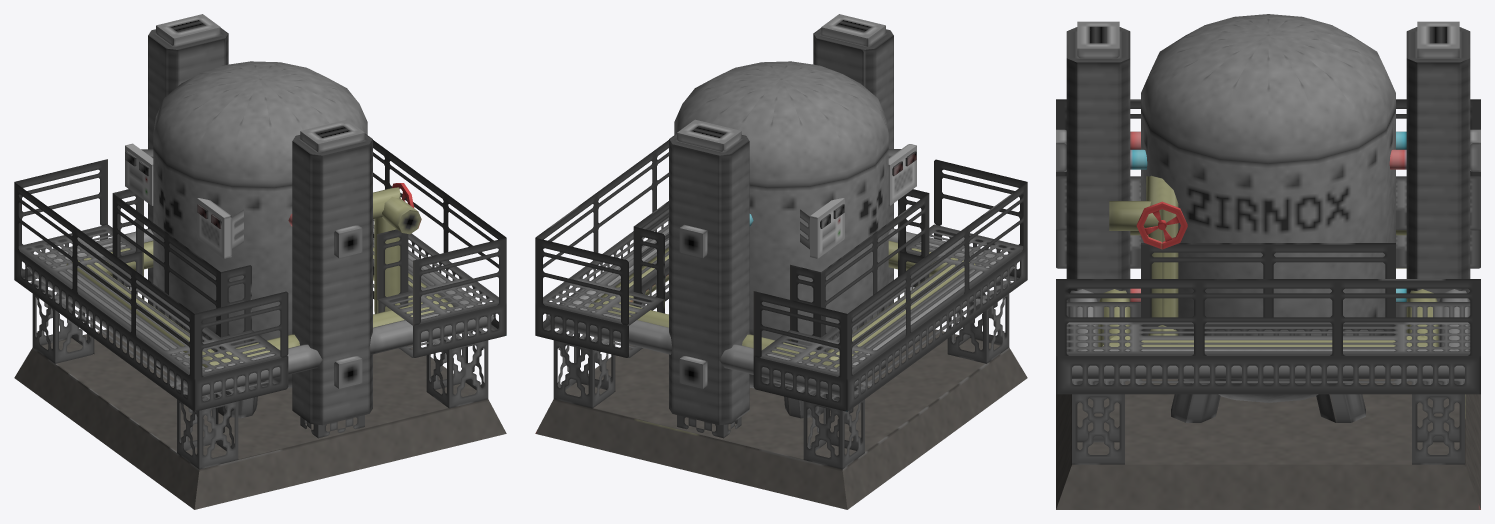
Rendered from zirnox.obj.
3 renders of one model, left to right at view 1: azimuth 30°, elevation 25°; view 2: azimuth 150°, elevation 25°; view 3: azimuth 270°, elevation 25°, orthographic. The views are drawn at different scales.
Visible parts, largest first — view 1: Plane; view 2: Plane; view 3: Plane.
Boxes of the visible parts, x1,y1,x2,y2 form: Plane: (14, 14, 506, 509); Plane: (535, 14, 1027, 509); Plane: (1056, 14, 1480, 509).
Size of the model in its own units: 5 by 5 by 5.
